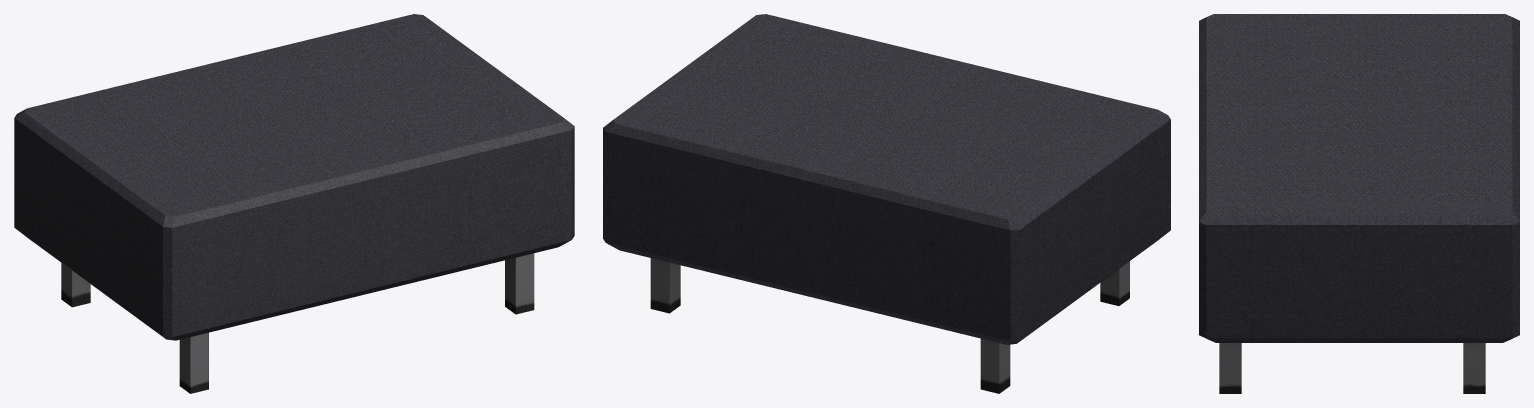
File: SM_Lounge_Sofa_NB_B.FBX
3 views of the same model, side by side, from view 1: azimuth 30°, elevation 25°; view 2: azimuth 150°, elevation 25°; view 3: azimuth 270°, elevation 25° (orthographic). The views are drawn at different scales.
Parts seen in each view (by area): view 1: SM_Lounge_Sofa_NB_B; view 2: SM_Lounge_Sofa_NB_B; view 3: SM_Lounge_Sofa_NB_B.
Boxes of the visible parts, x1,y1,x2,y2 form: SM_Lounge_Sofa_NB_B: (14, 14, 574, 393); SM_Lounge_Sofa_NB_B: (603, 14, 1170, 393); SM_Lounge_Sofa_NB_B: (1199, 14, 1519, 393).
Size of the model in its own units: 133 by 86.71 by 57.51.
